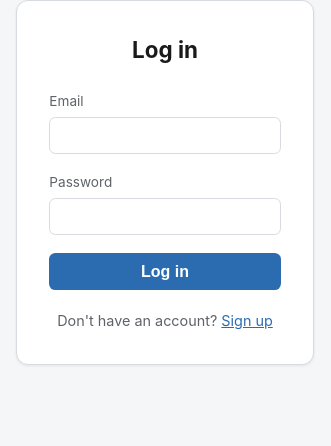
it: shows the error message on a refused sign-in
The width and height of the screenshot is (331, 446).
Type "alice@example.com" into the field labelled "Email" at (165, 135), box 49,117 -> 281,154
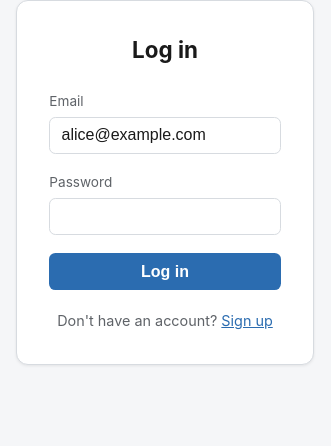
Type "wrong" into the password field labelled "Password" at (165, 217), box 49,198 -> 281,235
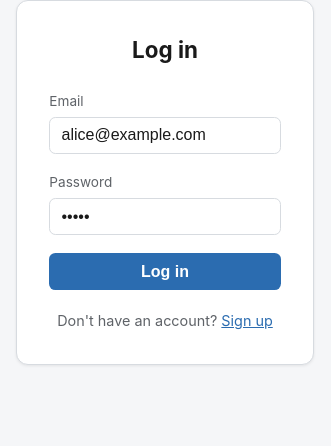
Click the button "Log in" at (165, 272), box 49,253 -> 281,290
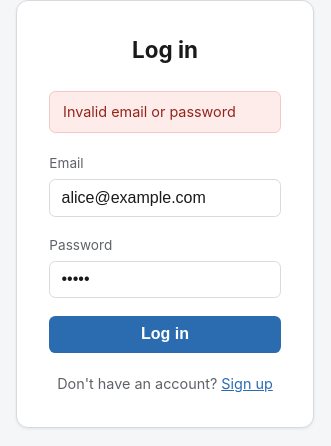
Now the text "Invalid email or password" is shown, box 49,91 -> 281,133
